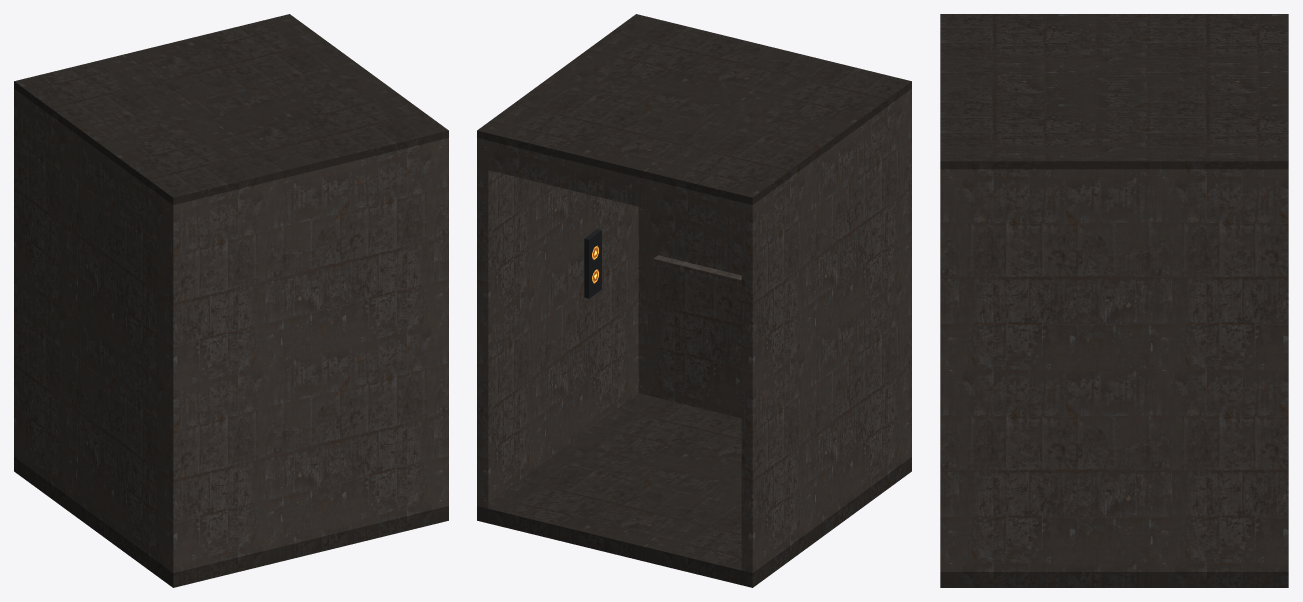
The model's file is cab.glb.
3 views of the same model, side by side, from view 1: azimuth 30°, elevation 25°; view 2: azimuth 150°, elevation 25°; view 3: azimuth 270°, elevation 25° (orthographic). The views are drawn at different scales.
Parts seen in each view (by area): view 1: cab; view 2: cab; view 3: cab.
Boxes of the visible parts, <box> form: cab: <box>14,14,448,587</box>; cab: <box>477,14,911,587</box>; cab: <box>940,14,1288,587</box>.
Size of the model in its own units: 1.96 by 2.65 by 1.96.
4 materials, 3 textured.
